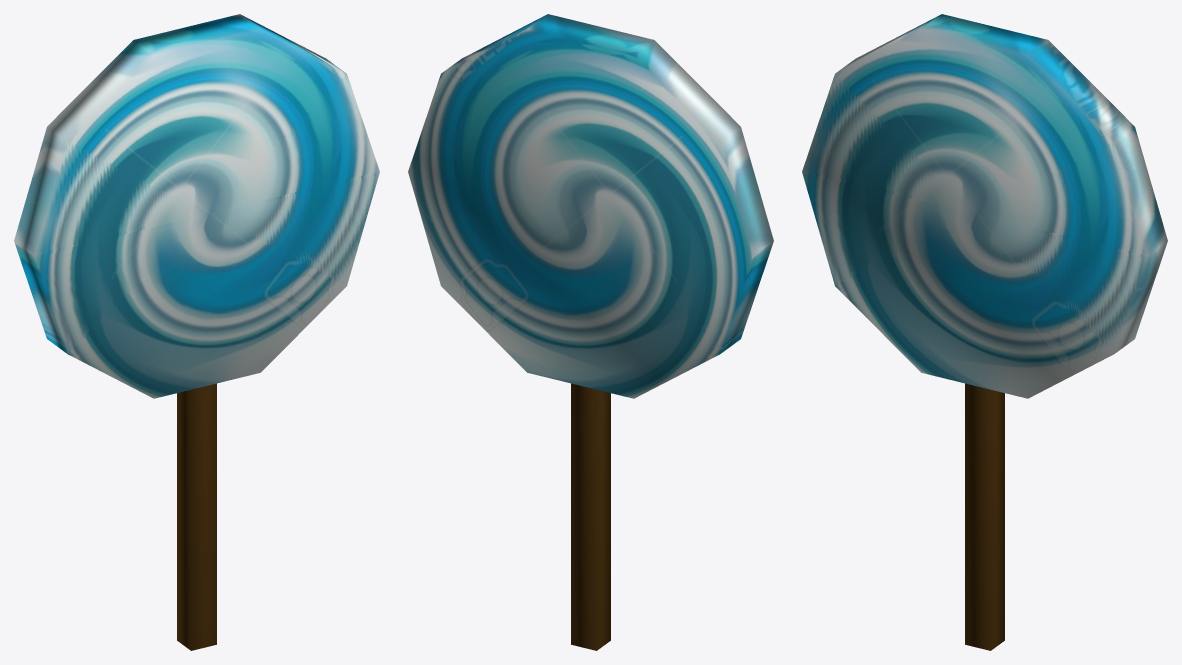
Rendered from tree_12.fbx.
The picture shows the model from 3 angles, left to right: view 1: azimuth 30°, elevation 25°; view 2: azimuth 150°, elevation 25°; view 3: azimuth 330°, elevation 25°; orthographic projection.
Parts seen in each view (by area): view 1: tree_12:Group3, tree_12:Group2; view 2: tree_12:Group3, tree_12:Group2; view 3: tree_12:Group3, tree_12:Group2.
Boxes of the visible parts, <box> form: tree_12:Group3: <box>14,14,379,398</box>; tree_12:Group2: <box>177,383,216,650</box>; tree_12:Group3: <box>408,14,773,398</box>; tree_12:Group2: <box>571,383,610,650</box>; tree_12:Group3: <box>802,14,1167,398</box>; tree_12:Group2: <box>965,383,1004,650</box>.
Size of the model in its own units: 6.99 by 11.77 by 0.7264.
